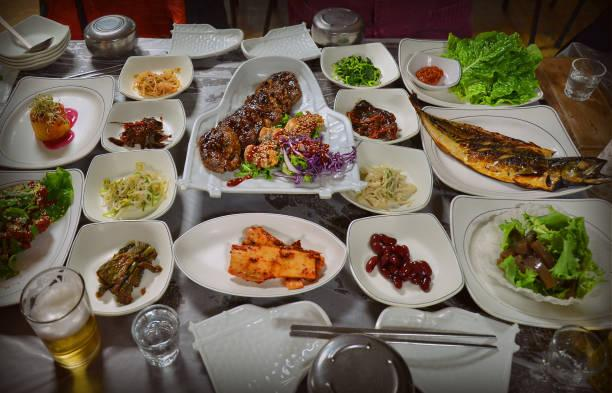Braised Crucian Carp: (180, 56, 363, 199), (449, 195, 610, 328), (418, 105, 586, 198), (174, 212, 346, 298), (61, 216, 175, 318), (1, 169, 85, 306), (348, 214, 468, 307), (1, 75, 113, 168), (79, 146, 179, 222), (343, 137, 433, 219), (335, 82, 423, 145), (105, 97, 186, 153), (111, 53, 203, 99), (320, 43, 400, 91)
